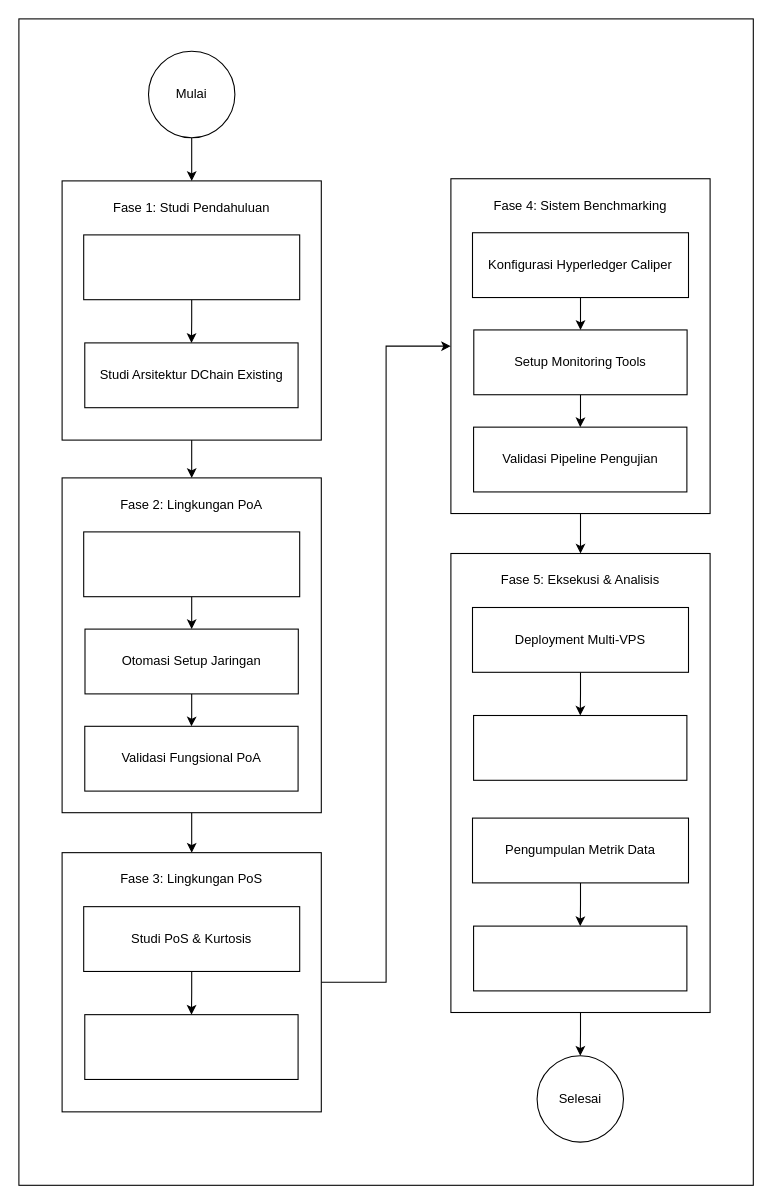
Some shapes in this 772 by 1204 pixel diagram are drawn without their labels. Here are the shapes that lost their labels. From the top down, the box of each, then its label:
(83, 234, 300, 300): Identifikasi Masalah & Tujuan
(83, 531, 300, 597): Replikasi PoA Lokal
(473, 714, 687, 780): Eksekusi Load Test Variatif
(473, 925, 687, 991): Analisis Komparatif & Kesimpulan
(84, 1014, 298, 1079): Validasi Fungsional PoS
